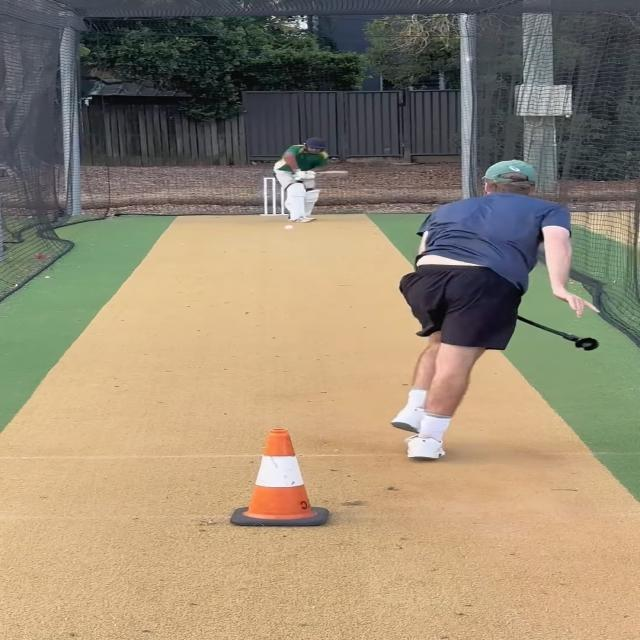ball: (282, 224, 294, 232)
stump: (264, 177, 284, 216)
